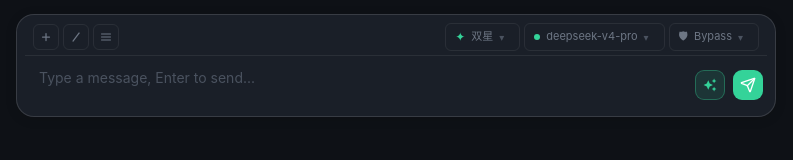
Test: InputBar › polish button replaces input with polished text
In the text box with placeholder "Type a message, Enter to send...": {"x": 358, "y": 79} [29,58,687,100], type "请帮我优化这条消息"
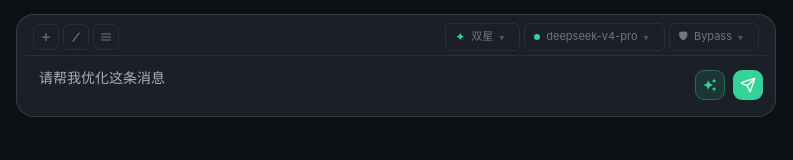
Click the button titled "Polish message with AI": {"x": 710, "y": 85} [695,70,725,100]
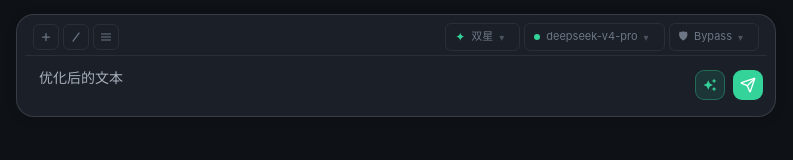
expect the text box holds "优化后的文本": met, box [29,58,687,100]
